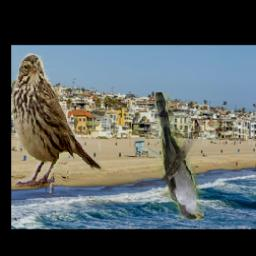Cuckoo: (155, 92, 205, 220)
Sparrow: (12, 54, 103, 188)
